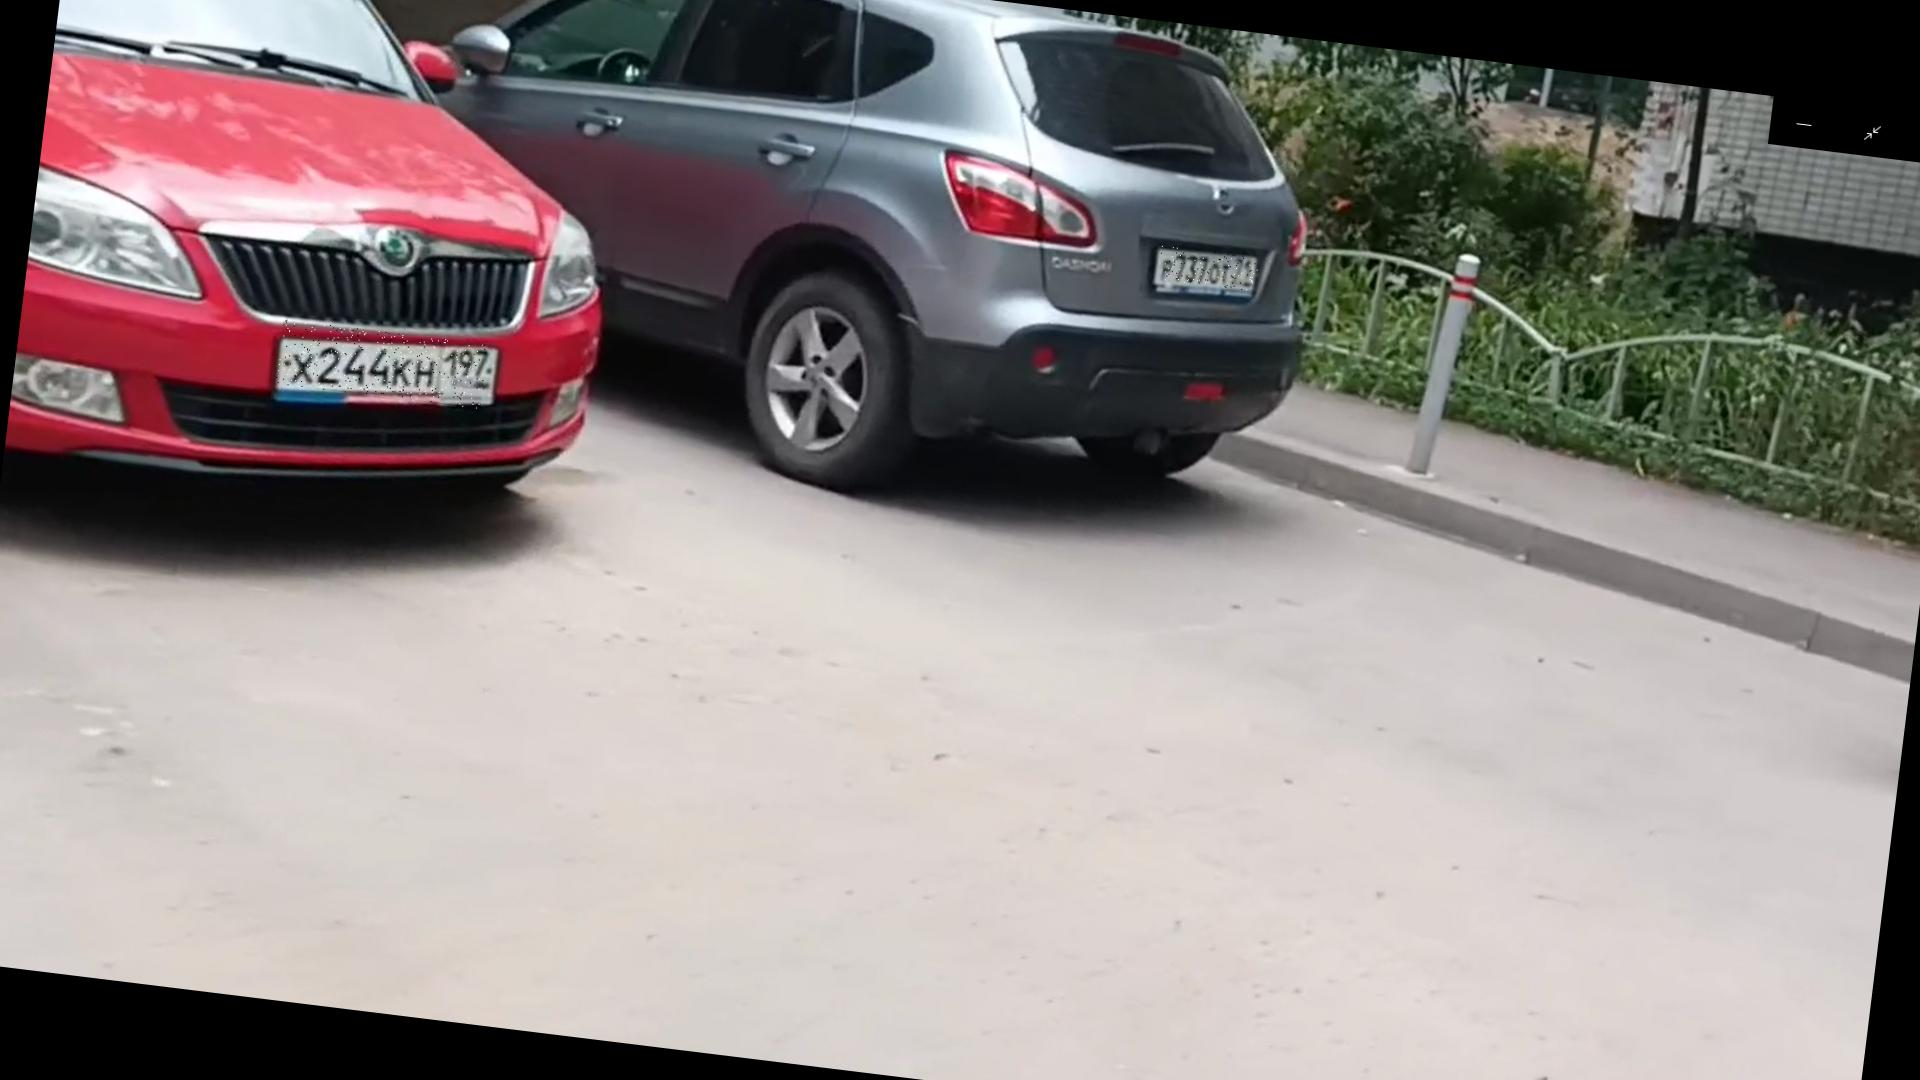plate: (276, 321, 489, 411), (1159, 246, 1261, 293)
